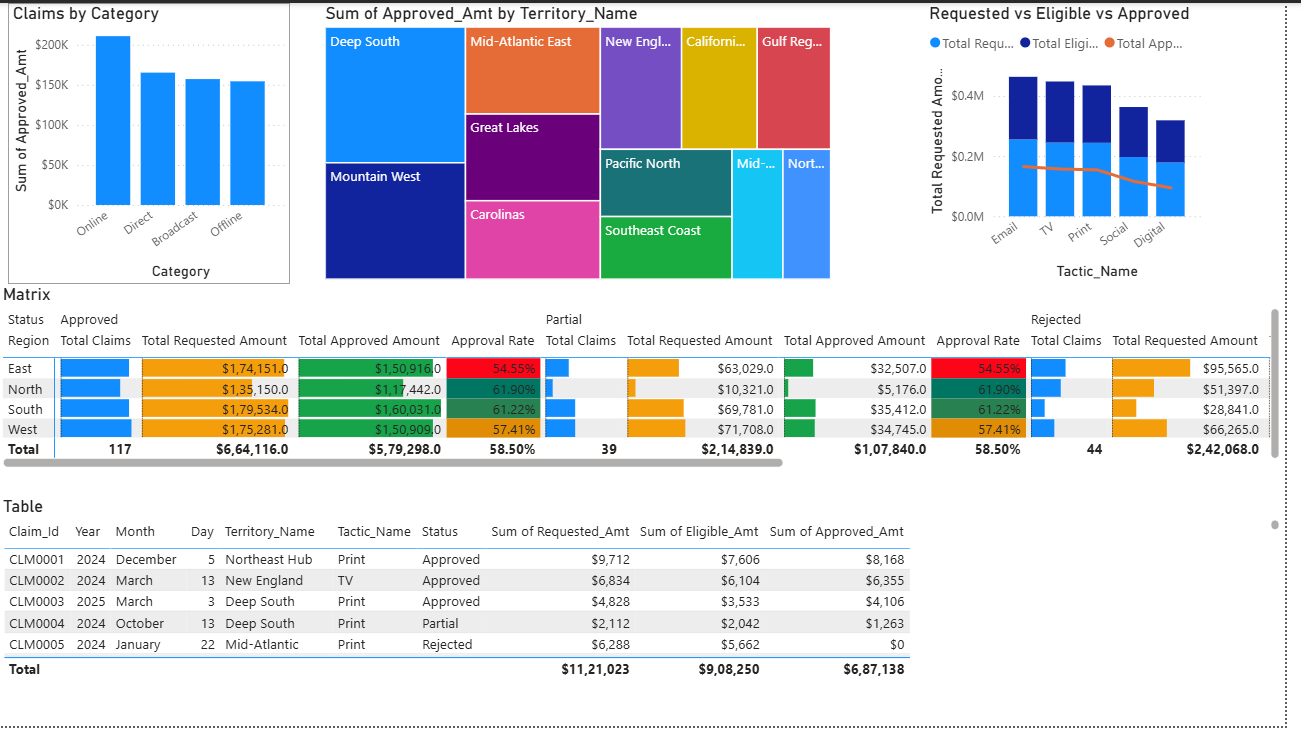

This screenshot's page, from the dashboard's own definition file:
{"tool":"powerbi","page":{"name":"Page 2","canvas":[1280,720],"ordinal":1},"visuals":[{"type":"clusteredColumnChart","title":"Claims by Category","fields":{"Category":["Dim_Tactic.Category"],"Y":["Sum(Fact_Claims.Approved_Amt)"]},"box":[10,0,280,280],"z":0},{"type":"lineStackedColumnComboChart","title":"Requested vs Eligible vs Approved","fields":{"Category":["Dim_Tactic.Tactic_Name"],"Y":["Measures Table.Total Requested Amount","Measures Table.Total Eligible Amount"],"Y2":["Measures Table.Total Approved Amount"]},"box":[921.4,0,280,280],"z":1000},{"type":"pivotTable","title":"Matrix","fields":{"Rows":["Dim_Territory.Region"],"Columns":["Fact_Claims.Status"],"Values":["Measures Table.Total Claims","Measures Table.Total Requested Amount","Measures Table.Total Approved Amount","Measures Table.Approval Rate"]},"box":[0,280,1280,187.1],"z":2000},{"type":"tableEx","title":"Table","fields":{"Values":["Fact_Claims.Claim_Id","Fact_Claims.Submitted_Date.Variation.Date Hierarchy.Year","Fact_Claims.Submitted_Date.Variation.Date Hierarchy.Month","Fact_Claims.Submitted_Date.Variation.Date Hierarchy.Day","Dim_Territory.Territory_Name","Dim_Tactic.Tactic_Name","Fact_Claims.Status","Sum(Fact_Claims.Requested_Amt)","Sum(Fact_Claims.Eligible_Amt)","Sum(Fact_Claims.Approved_Amt)"]},"box":[0,490,1280,187],"z":3000},{"type":"treemap","fields":{"Group":["Dim_Territory.Territory_Name"],"Values":["Sum(Fact_Claims.Approved_Amt)"]},"box":[321.4,0,512.9,280],"z":4000}]}

Visuals, with their boxes in screenshot pixels (x1, y1, x2, y2), scaled from the page's 1280x720 canvas onto the 1301x730 screenshot:
"Claims by Category" clusteredColumnChart: 10,0,295,284
"Requested vs Eligible vs Approved" lineStackedColumnComboChart: 937,0,1221,284
"Matrix" pivotTable: 0,284,1300,474
"Table" tableEx: 0,497,1300,686
treemap - Dim_Territory.Territory_Name x Sum(Fact_Claims.Approved_Amt): 327,0,848,284
